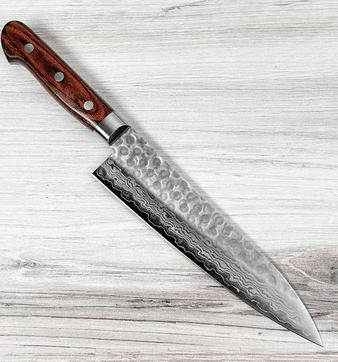Knife: (1, 18, 327, 348)
